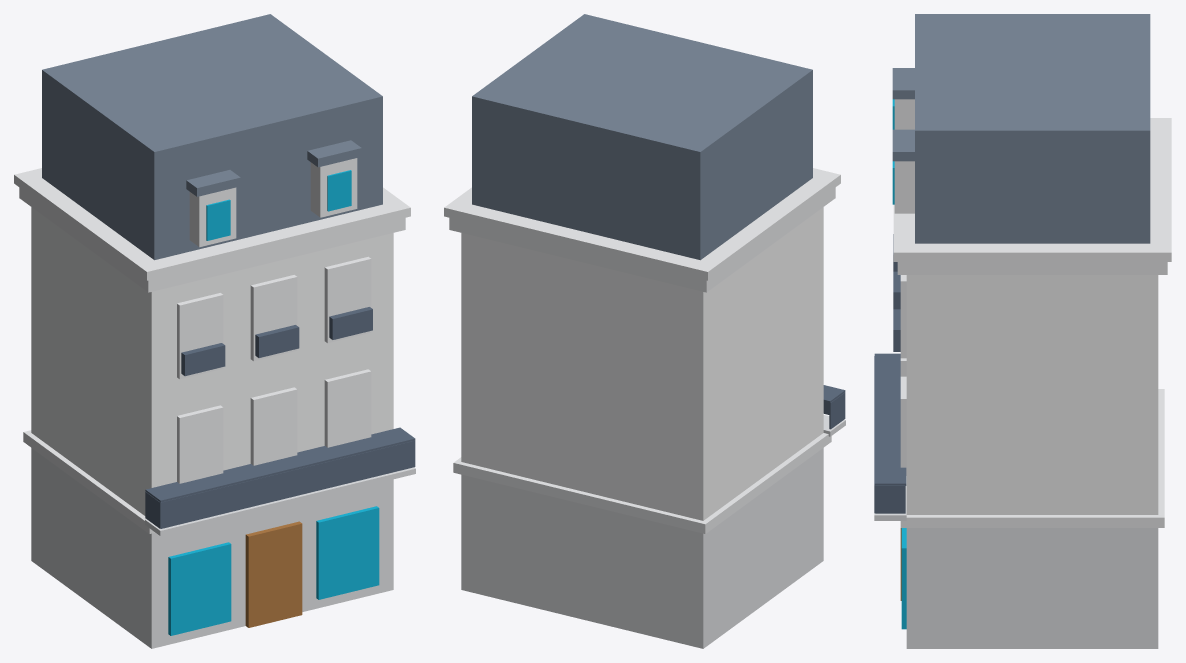
File: city_building_01-lod.glb
3 views of the same model, side by side, from view 1: azimuth 30°, elevation 25°; view 2: azimuth 150°, elevation 25°; view 3: azimuth 270°, elevation 25° (orthographic). The views are drawn at different scales.
Visible parts, largest first — view 1: B01_MansardBody, B01_UpperFacade, B01_GroundFloor, B01_CorniceUpper, B01_BalconyFace, B01_ShopDoor, B01_ShopWin_L, B01_ShopWin_R, B01_CorniceFrieze, B01_BalconyRailTop, B01_WinFrame_f0_2.2, B01_WinFrame_f0_0.0 (+15 smaller); view 2: B01_UpperFacade, B01_MansardBody, B01_GroundFloor, B01_CorniceUpper, B01_StringCourse1, B01_CorniceFrieze; view 3: B01_UpperFacade, B01_MansardBody, B01_GroundFloor, B01_CorniceUpper, B01_StringCourse1, B01_BalconyRailTop, B01_CorniceFrieze, B01_DormerBody_1.8, B01_BalconySideR, B01_DormerRoof_1.8, B01_DormerRoof_-1.8, B01_WinFrame_f0_2.2 (+3 smaller).
Boxes of the visible parts, left/top/right/bottom form: B01_MansardBody: left=42, top=14, right=382, bottom=260; B01_UpperFacade: left=31, top=207, right=393, bottom=515; B01_GroundFloor: left=31, top=448, right=393, bottom=648; B01_CorniceUpper: left=14, top=168, right=410, bottom=280; B01_BalconyFace: left=160, top=440, right=415, bottom=528; B01_ShopDoor: left=245, top=521, right=302, bottom=627; B01_ShopWin_L: left=168, top=542, right=231, bottom=635; B01_ShopWin_R: left=316, top=506, right=379, bottom=599; B01_CorniceFrieze: left=19, top=187, right=405, bottom=292; B01_BalconyRailTop: left=145, top=427, right=415, bottom=502; B01_WinFrame_f0_2.2: left=324, top=369, right=371, bottom=447; B01_WinFrame_f0_0.0: left=250, top=387, right=297, bottom=465; B01_UpperFacade: left=461, top=207, right=823, bottom=520; B01_MansardBody: left=472, top=14, right=812, bottom=260; B01_GroundFloor: left=461, top=448, right=823, bottom=648; B01_CorniceUpper: left=444, top=168, right=840, bottom=280; B01_StringCourse1: left=453, top=433, right=831, bottom=533; B01_CorniceFrieze: left=449, top=187, right=835, bottom=292; B01_UpperFacade: left=906, top=275, right=1158, bottom=514; B01_MansardBody: left=915, top=14, right=1150, bottom=243; B01_GroundFloor: left=906, top=528, right=1158, bottom=648; B01_CorniceUpper: left=893, top=118, right=1171, bottom=261; B01_StringCourse1: left=900, top=389, right=1164, bottom=527; B01_BalconyRailTop: left=874, top=353, right=906, bottom=485; B01_CorniceFrieze: left=897, top=262, right=1167, bottom=274; B01_DormerBody_1.8: left=894, top=161, right=914, bottom=213; B01_BalconySideR: left=875, top=485, right=905, bottom=513; B01_DormerRoof_1.8: left=892, top=129, right=914, bottom=161; B01_DormerRoof_-1.8: left=892, top=68, right=914, bottom=99; B01_WinFrame_f0_2.2: left=900, top=376, right=906, bottom=475.
Size of the model in its own units: 7.85 by 14 by 7.33.
